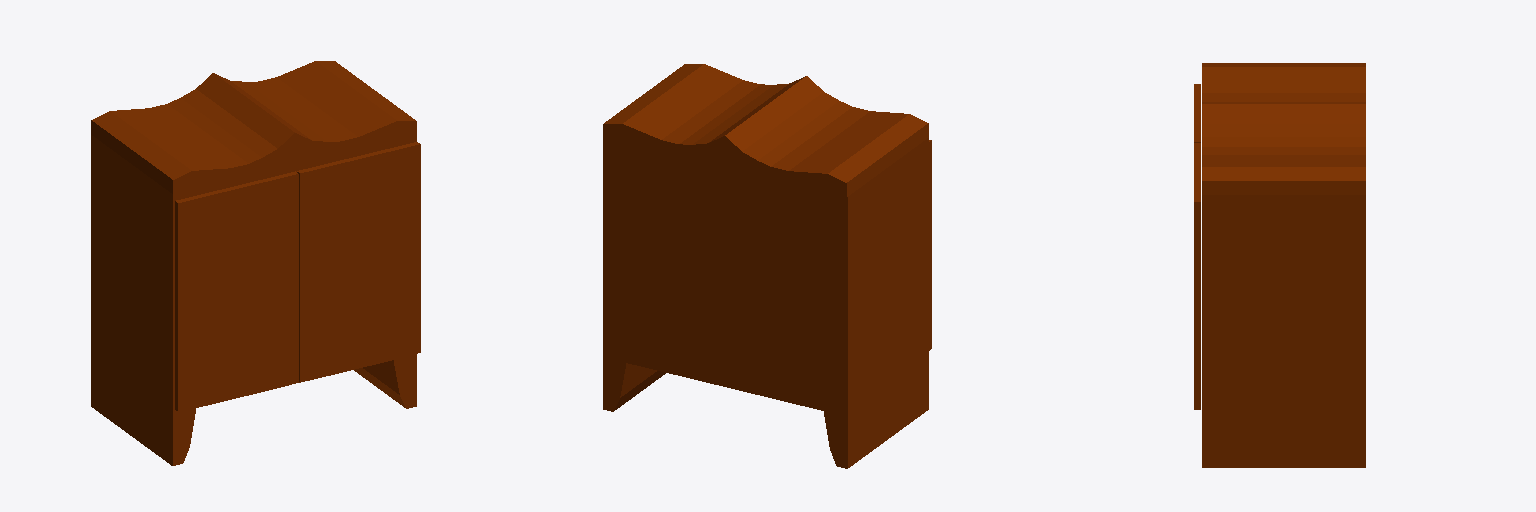
File: cupboard.obj
The picture shows the model from 3 angles: view 1: azimuth 30°, elevation 25°; view 2: azimuth 150°, elevation 25°; view 3: azimuth 270°, elevation 25°; orthographic projection.
Visible parts, largest first — view 1: armario, puerta, puerta001; view 2: armario, puerta; view 3: armario, puerta001.
Boxes of the visible parts, x1,y1,x2,y2 form: armario: [91, 61, 416, 465]; puerta: [175, 171, 298, 411]; puerta001: [297, 142, 420, 381]; armario: [603, 64, 928, 468]; puerta: [929, 140, 931, 350]; armario: [1202, 63, 1365, 467]; puerta001: [1194, 143, 1200, 409].
Bounding box in the file's own units: 63.54 × 75.26 × 38.62.